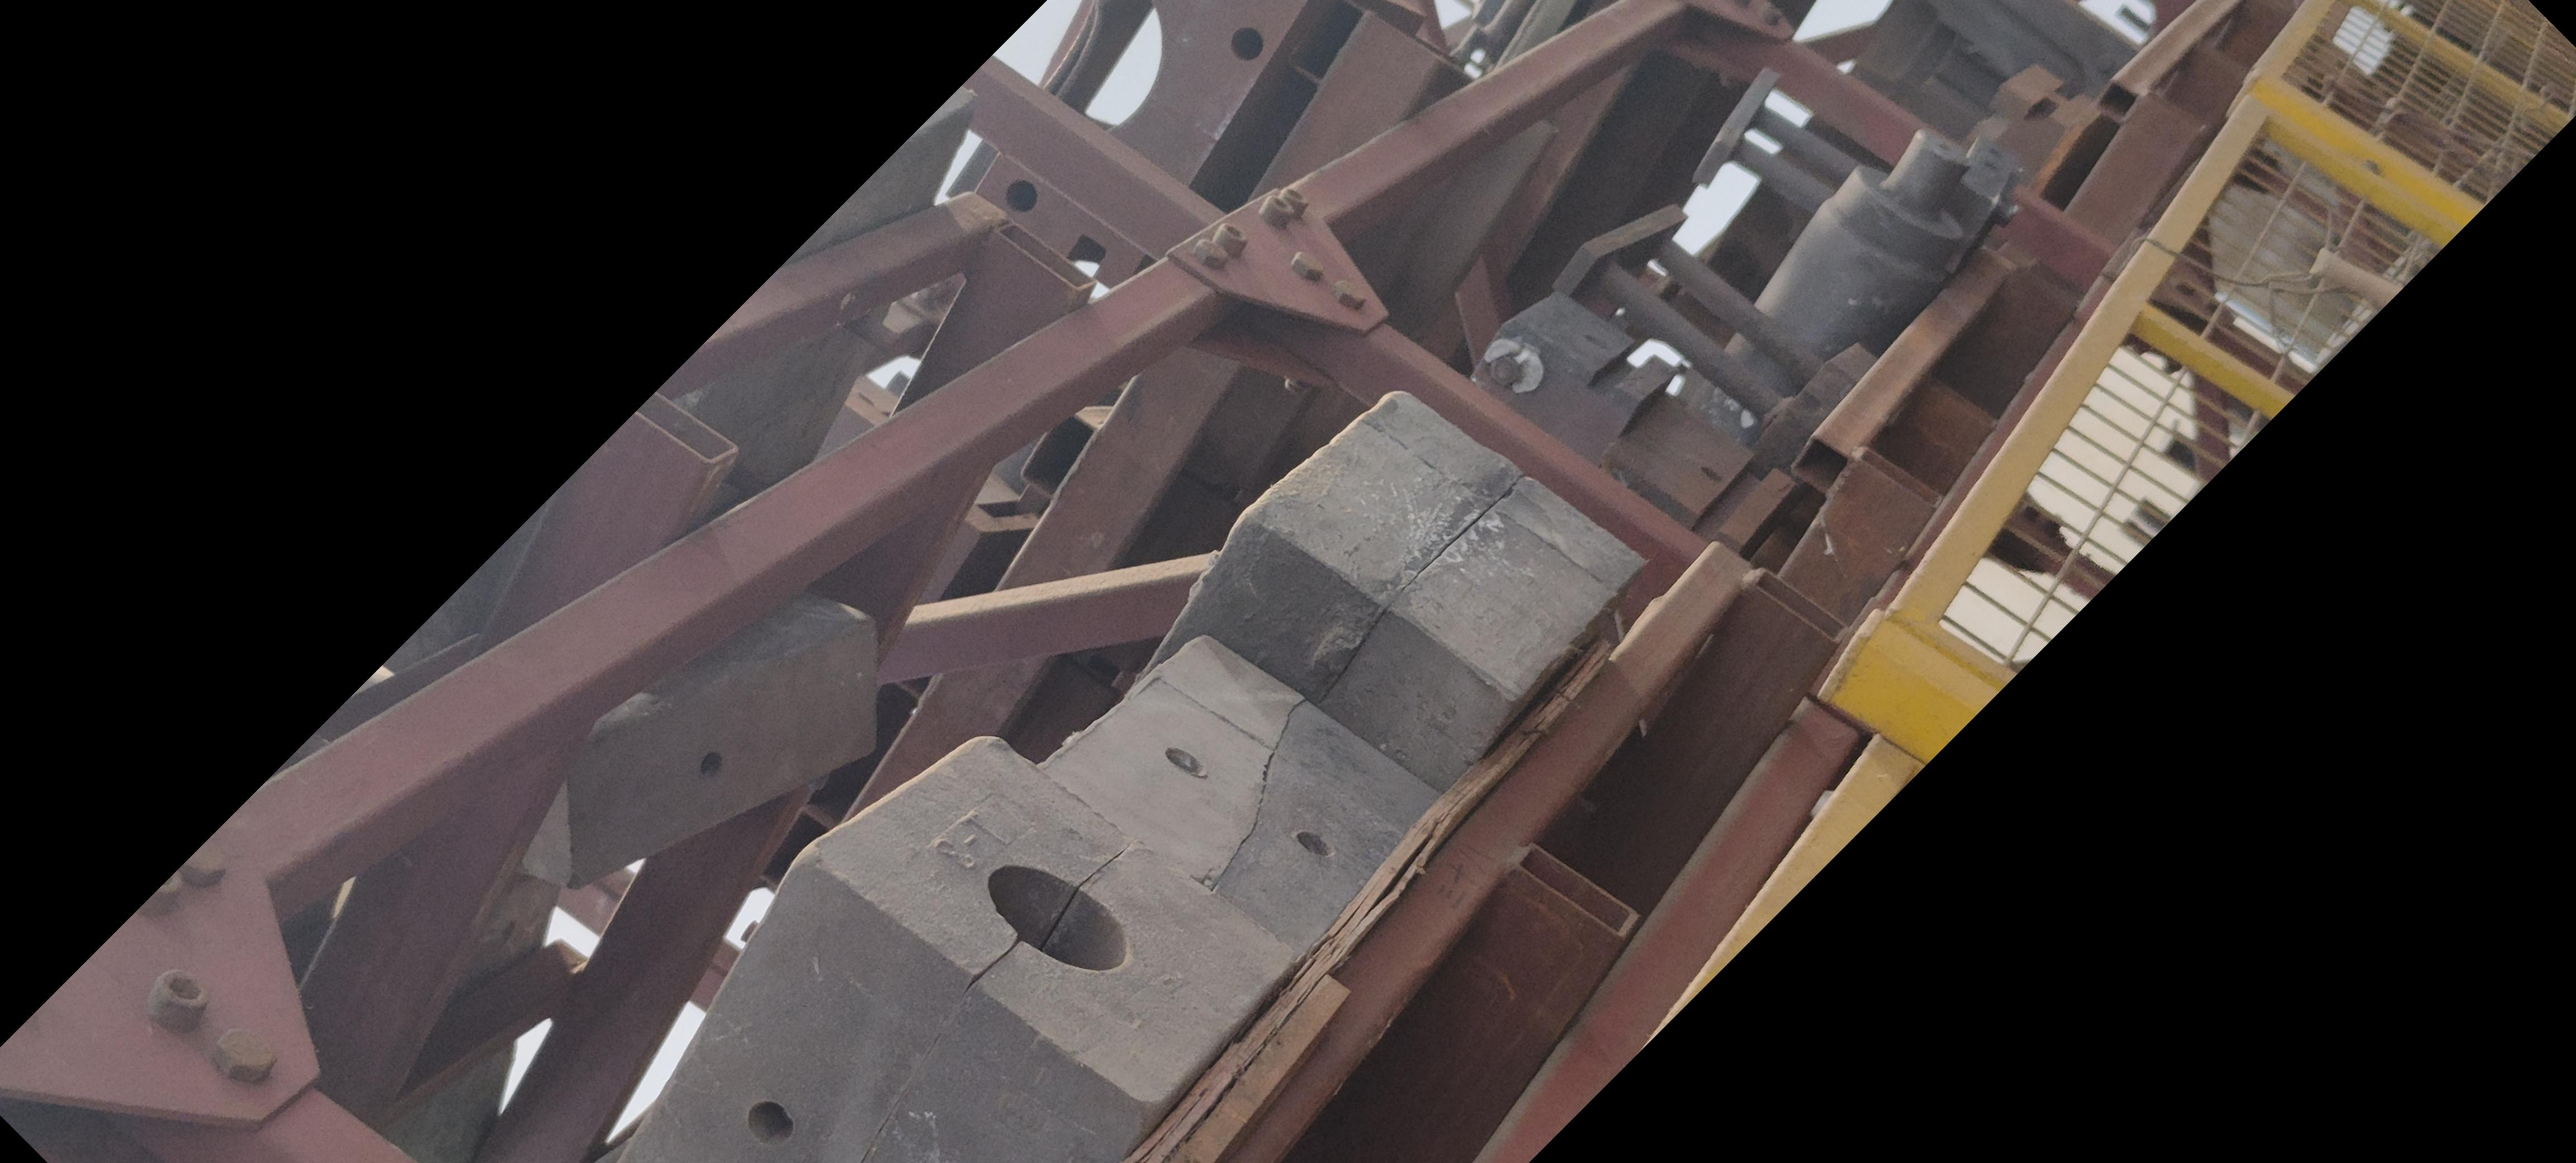pouring hole: (989, 864, 1129, 971)
